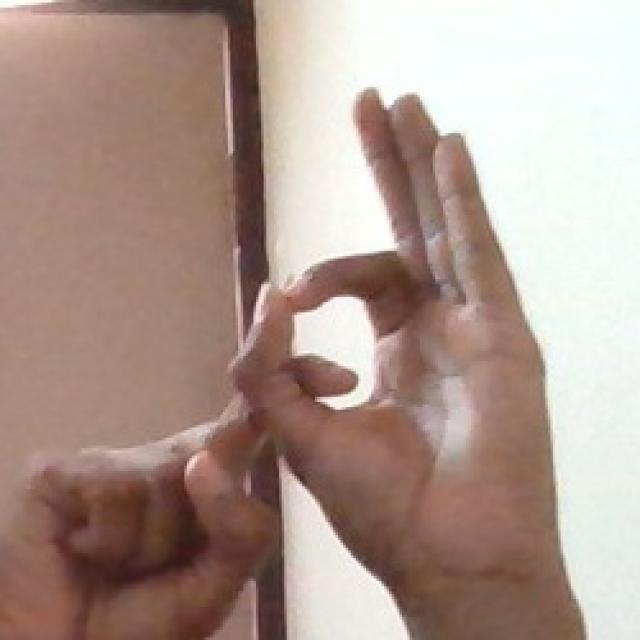Alphabet-Q: (29, 70, 580, 640)
